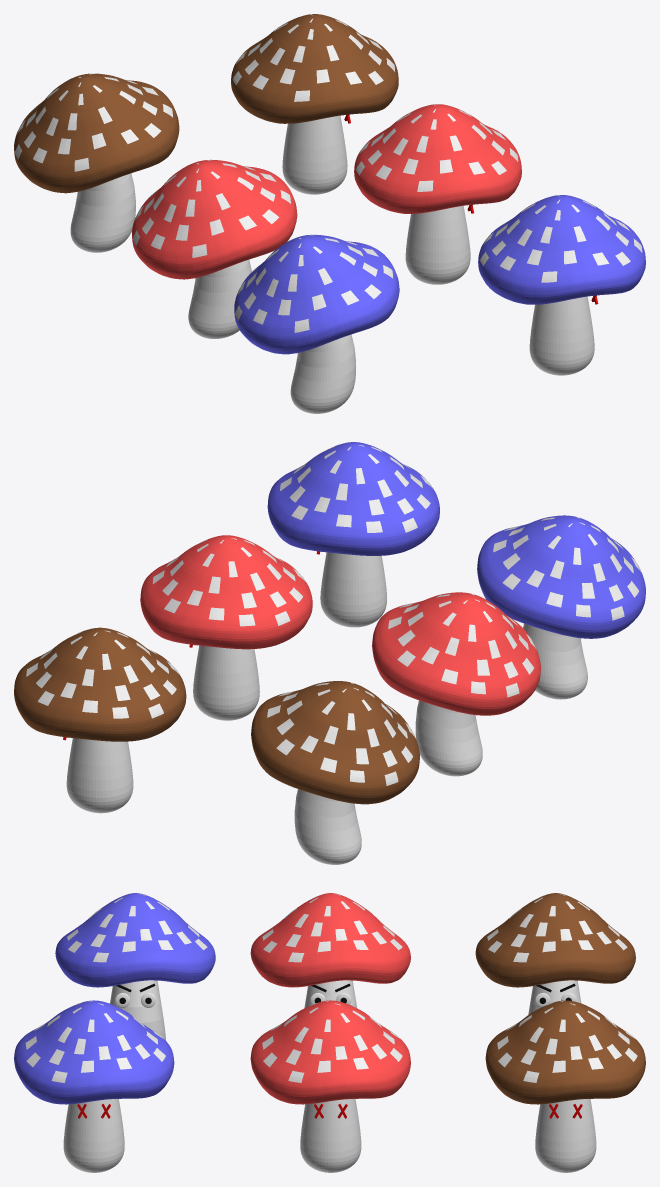
File: BlueRedBrownMushroom-Models-Better-DeadMushroomsALSOFIXED 1.fbx
3 views of the same model, one above another, from view 1: azimuth 30°, elevation 25°; view 2: azimuth 150°, elevation 25°; view 3: azimuth 270°, elevation 25° (orthographic). The views are drawn at different scales.
Visible parts, largest first — view 1: Sphere.003, Sphere.002, Sphere.005, Sphere.004, Sphere.006, Sphere.001; view 2: Sphere.001, Sphere.002, Sphere.004, Sphere.005, Sphere.006, Sphere.003; view 3: Sphere.006, Sphere.005, Sphere.004, Sphere.003, Sphere.002, Sphere.001.
Part boxes in pixels (bbox=[...]): Sphere.003: bbox=[234, 234, 399, 413]; Sphere.002: bbox=[14, 73, 179, 252]; Sphere.005: bbox=[231, 14, 398, 194]; Sphere.004: bbox=[354, 104, 521, 284]; Sphere.006: bbox=[478, 195, 645, 375]; Sphere.001: bbox=[132, 159, 297, 338]; Sphere.001: bbox=[372, 592, 540, 776]; Sphere.002: bbox=[251, 681, 419, 864]; Sphere.004: bbox=[140, 535, 312, 720]; Sphere.005: bbox=[14, 627, 186, 813]; Sphere.006: bbox=[267, 442, 439, 627]; Sphere.003: bbox=[477, 515, 645, 699]; Sphere.006: bbox=[14, 1000, 174, 1172]; Sphere.005: bbox=[485, 1000, 645, 1172]; Sphere.004: bbox=[250, 1000, 410, 1172]; Sphere.003: bbox=[55, 893, 215, 1040]; Sphere.002: bbox=[475, 893, 635, 1014]; Sphere.001: bbox=[250, 893, 410, 1008].
Size of the model in its own units: 637 by 288 by 994.
